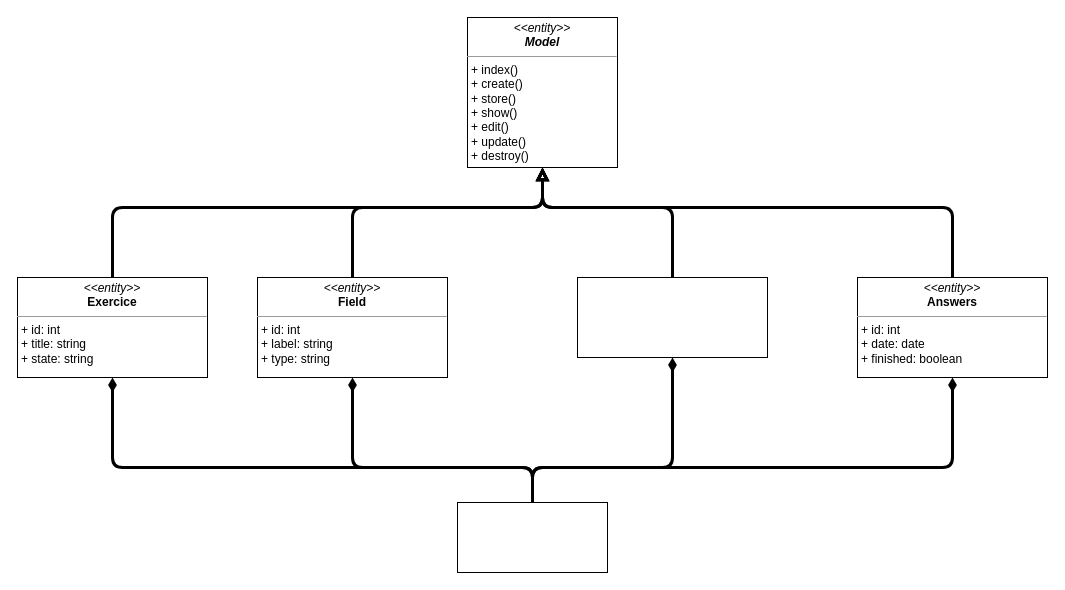
Image size: 1065x590. Some labels were removed from this diagram. Each missing label, with the centre of its shape:
"<<entity>> DB + connection()" goes at (532,537).
"<<entity>> State + id: int + title: string" goes at (672,317).
